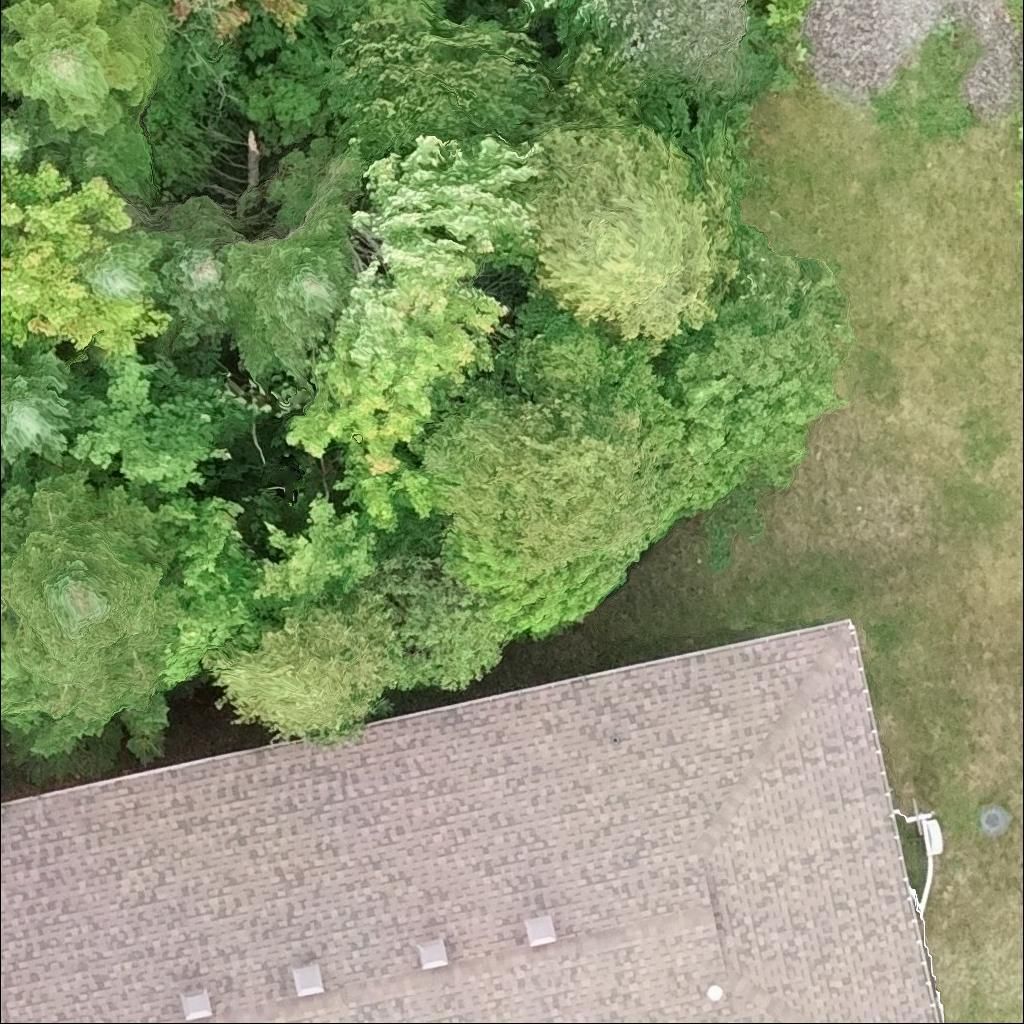crown: (286, 136, 544, 546), (0, 464, 183, 755), (513, 122, 744, 343), (418, 395, 668, 562), (0, 161, 175, 353), (72, 346, 247, 492), (226, 197, 353, 378), (4, 0, 170, 138), (253, 494, 379, 609), (156, 199, 245, 343), (0, 349, 98, 466), (67, 118, 155, 204), (87, 230, 173, 300), (178, 0, 307, 39), (0, 487, 44, 587), (0, 95, 57, 170), (0, 640, 43, 718), (0, 6, 25, 104)
